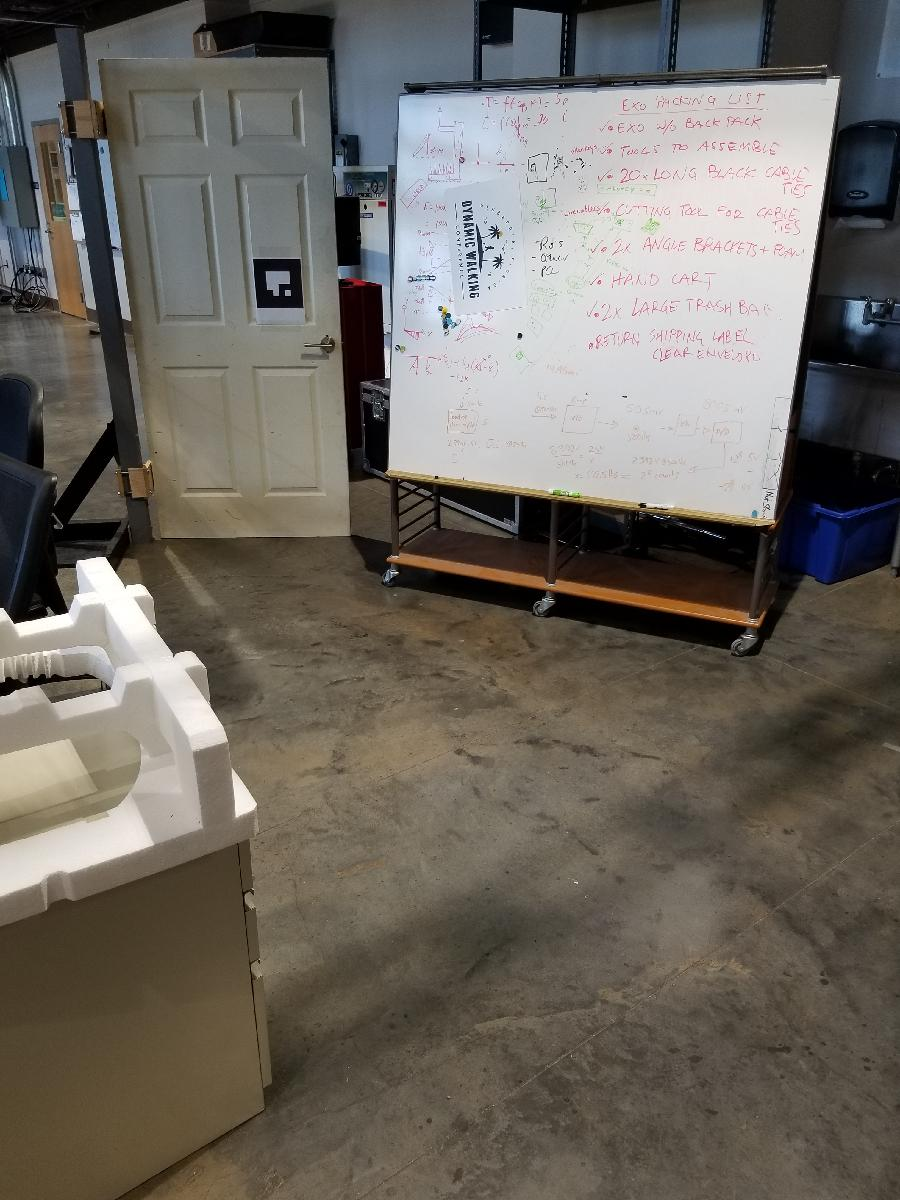door: (95, 51, 356, 545)
doorHandle: (302, 329, 341, 354)
